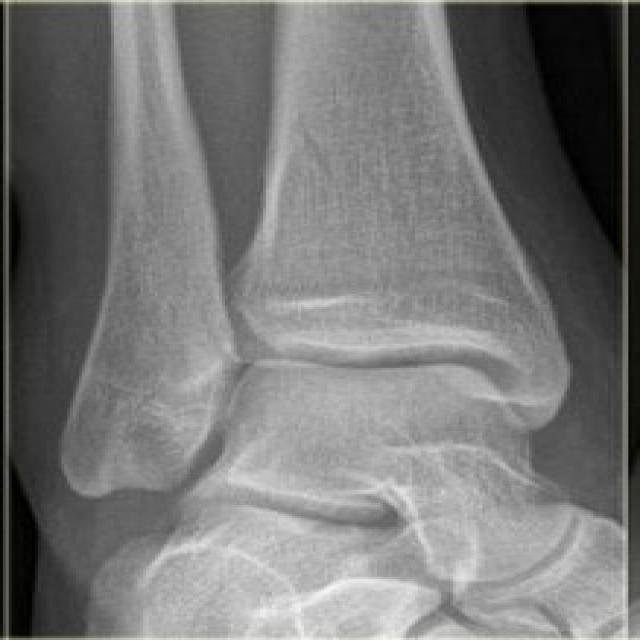Avulsion-fracture-: (114, 323, 582, 579)
